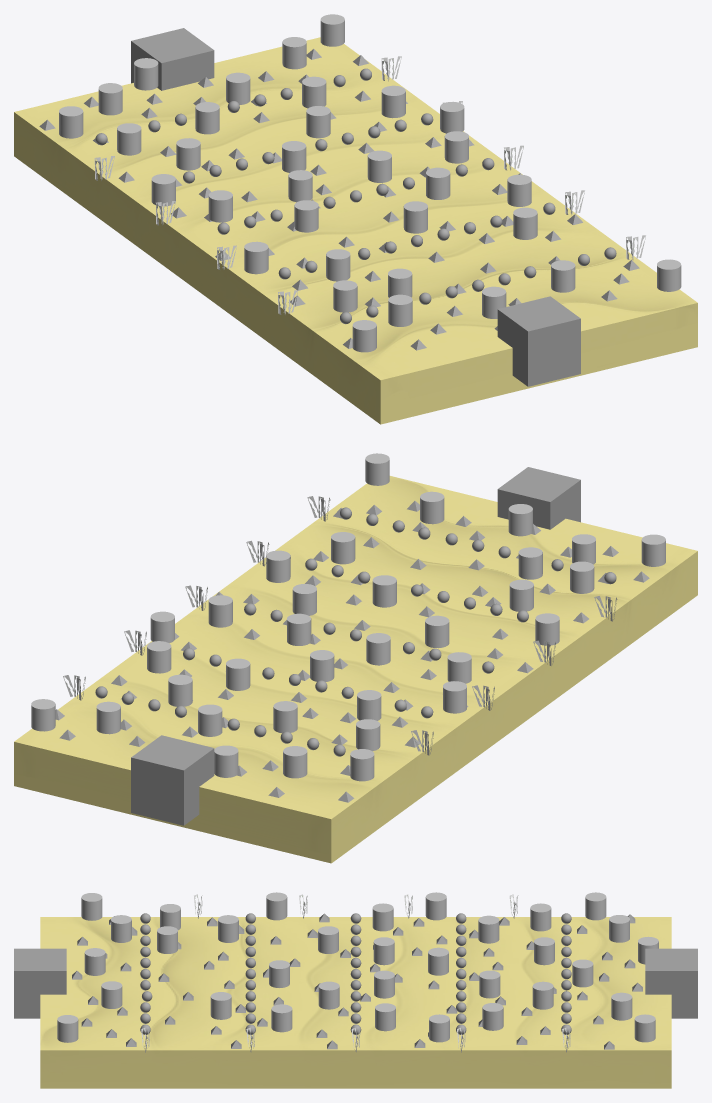
The model's file is assets006_Streckenteil_gerade001.fbx.
The picture shows the model from 3 angles, top to bottom: view 1: azimuth 30°, elevation 25°; view 2: azimuth 150°, elevation 25°; view 3: azimuth 270°, elevation 25°; orthographic projection. The views are drawn at different scales.
Visible parts, largest first — view 1: streckenteil_gerade_geo, b (×12), a (×12), startpoint, c (×7), endpoint, d (×2); view 2: streckenteil_gerade_geo, a (×12), b (×12), endpoint, c (×7), startpoint, d (×2); view 3: streckenteil_gerade_geo, b (×12), a (×12), c (×7), startpoint, endpoint, d (×2).
Boxes of the visible parts, x1,y1,x2,y2 form: streckenteil_gerade_geo: [14, 37, 697, 424]; b (×12): [195, 37, 468, 326]; a (×12): [288, 150, 681, 352]; startpoint: [497, 296, 580, 386]; c (×7): [117, 14, 405, 206]; endpoint: [131, 28, 214, 90]; d (×2): [59, 83, 122, 138]; streckenteil_gerade_geo: [14, 476, 697, 863]; a (×12): [266, 453, 665, 665]; b (×12): [96, 534, 595, 736]; endpoint: [131, 735, 214, 825]; c (×7): [31, 641, 466, 777]; startpoint: [497, 467, 580, 529]; d (×2): [283, 746, 374, 781]; streckenteil_gerade_geo: [40, 917, 671, 1088]; b (×12): [111, 892, 632, 1042]; a (×12): [57, 893, 394, 1042]; c (×7): [425, 892, 658, 1042]; startpoint: [14, 948, 66, 1018]; endpoint: [645, 948, 697, 1018]; d (×2): [585, 892, 629, 942].
Size of the model in its own units: 32.03 by 6.68 by 65.
